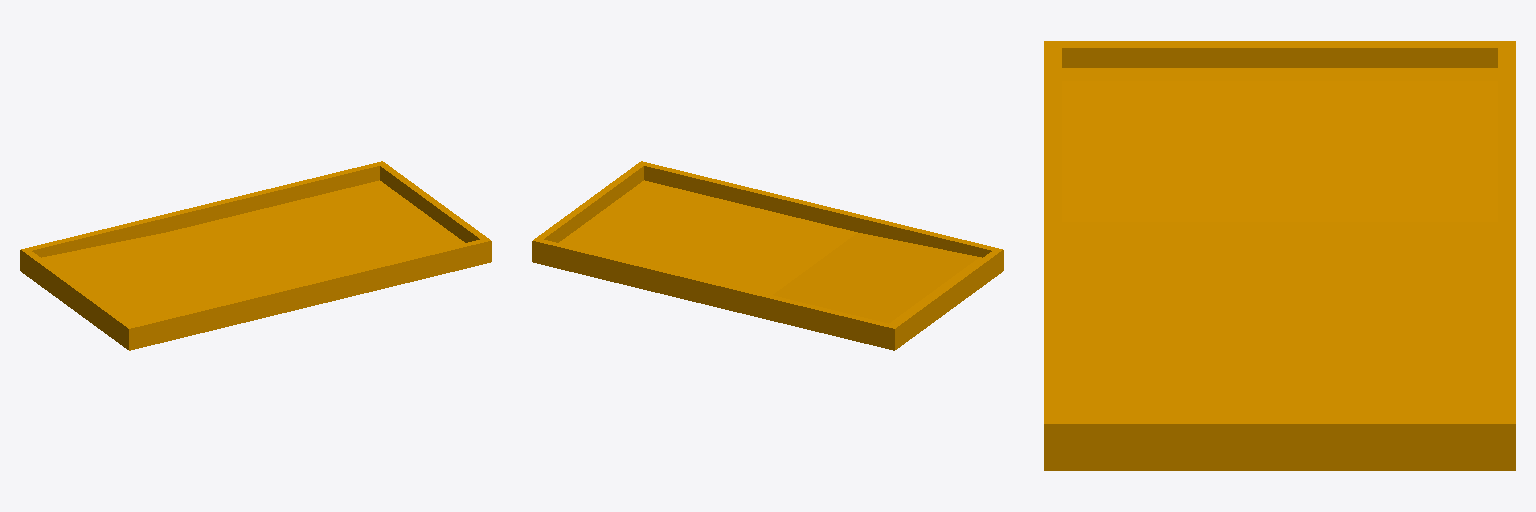
URDF robot description (pool):
<?xml version="1.0"?>
<robot
  name="pool">
  <link
    name="Base_link">
    <inertial>
      <origin
        xyz="-8.9797E-16 3.0259E-15 0.75567"
        rpy="0 0 0" />
      <mass
        value="12379000" />
      <inertia
        ixx="935560000"
        ixy="-5.1E-07"
        ixz="2.8051E-08"
        iyy="3143500000"
        iyz="6.3008E-08"
        izz="4066800000" />
    </inertial>
    
    <!--visual>
      <origin
        xyz="0 0 0"
        rpy="0 0 0" />
      <geometry>
        <mesh
          filename="package://pool/meshes/Base_link.STL" />
      </geometry>
      <material
        name="">
        <color
          rgba="0.40392 0.92941 1 1" />
      </material>
    </visual>
    <collision>
      <origin
        xyz="0 0 0"
        rpy="0 0 0" />
      <geometry>
        <mesh
          filename="package://pool/meshes/Base_link.STL" />
      </geometry>
    </collision>
  </link>
  <link
    name="Bottom_link">
    <inertial>
      <origin
        xyz="-0.18042 1.0283 -1.0133E-13"
        rpy="0 0 0" />
      <mass
        value="25244" />
      <inertia
        ixx="1315900"
        ixy="36721"
        ixz="5.5138E-08"
        iyy="6673200"
        iyz="1.0883E-09"
        izz="5359600" />
    </inertial>
    <visual>
      <origin
        xyz="0 0 0"
        rpy="0 0 0" />
      <geometry>
        <mesh
          filename="package://pool/meshes/Bottom_link.STL" />
      </geometry>
      <material
        name="">
        <color
          rgba="0.79216 0.81961 0.93333 1" />
      </material>
    </visual>
    <collision>
      <origin
        xyz="0 0 0"
        rpy="0 0 0" />
      <geometry>
        <mesh
          filename="package://pool/meshes/Bottom_link.STL" />
      </geometry>
    </collision>
  </link>
  <joint
    name="Bottom_part"
    type="fixed">
    <origin
      xyz="0 0 0"
      rpy="1.5708 0 0" />
    <parent
      link="Base_link" />
    <child
      link="Bottom_link" />
    <axis
      xyz="0 0 0" />
  </joint-->
    <visual>
      <origin
        xyz="0 0 0"
        rpy="0 0 0" />
      <geometry>
        <mesh
          filename="package://pool/meshes/pool_final.DAE" />
      </geometry>
      <!--material
        name="">
        <color
          rgba="0.40392 0.92941 1 1" />
      </material-->
    </visual>
    <collision>
      <origin
        xyz="0 0 0"
        rpy="0 0 0" />
      <geometry>
        <mesh
          filename="package://pool/meshes/pool_final.DAE" />
      </geometry>
    </collision>
  </link>
</robot>

--- Render facts (derived) ---
3 views of the same robot in one strip: view 1: azimuth 30°, elevation 25°; view 2: azimuth 150°, elevation 25°; view 3: azimuth 270°, elevation 25° (orthographic).
Model pool with 1 links and 0 joints (none), rooted at Base_link, posed every joint at zero.
Visible links, largest first — view 1: Base_link; view 2: Base_link; view 3: Base_link.
Boxes of the visible links, bbox=[...] form: Base_link: bbox=[20, 161, 491, 350]; Base_link: bbox=[532, 161, 1003, 350]; Base_link: bbox=[1044, 41, 1515, 470].
Bounding box of the posed robot: 52 × 27 × 3 m (x, y, z).
1 mesh visuals loaded from 1 distinct referenced files (1 Collada DAE).
